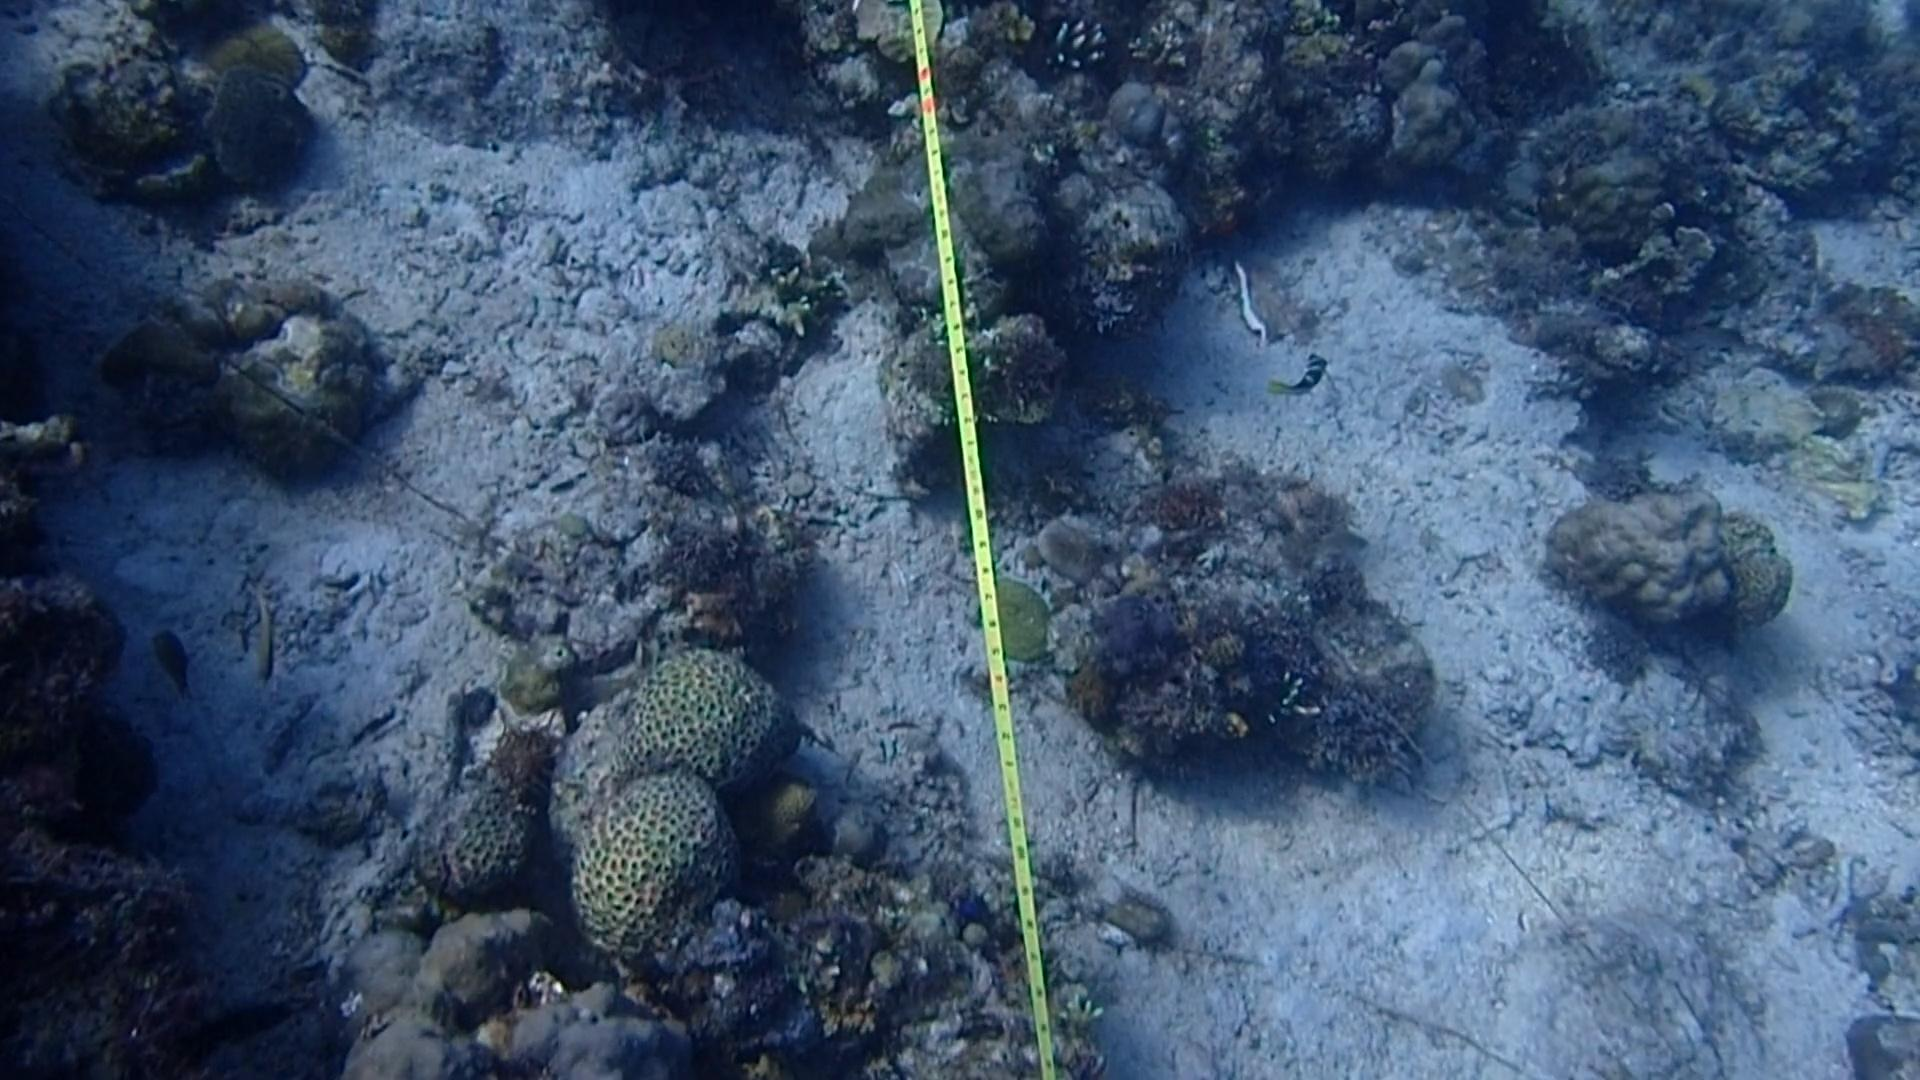Striped Fish: (1261, 345, 1348, 407)
